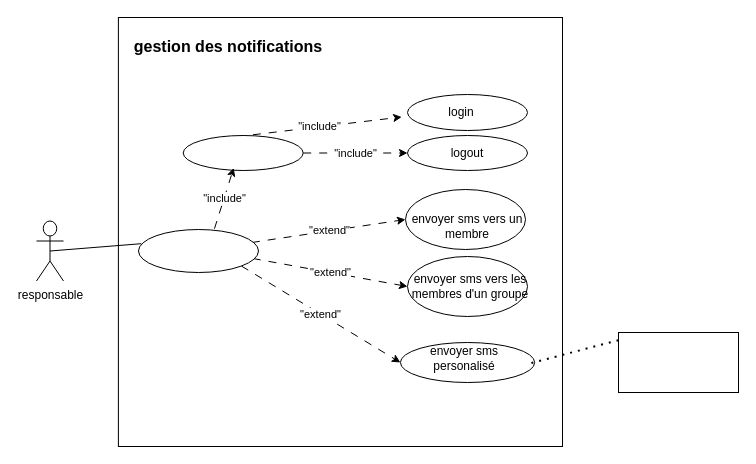
This 756x464 diagram has some shape labels left out. Each missing label, with the centre of its shape:
"authentifier" belongs at point (242, 152).
"envoi vers un seul membre" belongs at point (678, 362).
"gérer les notifications" belongs at point (198, 250).
